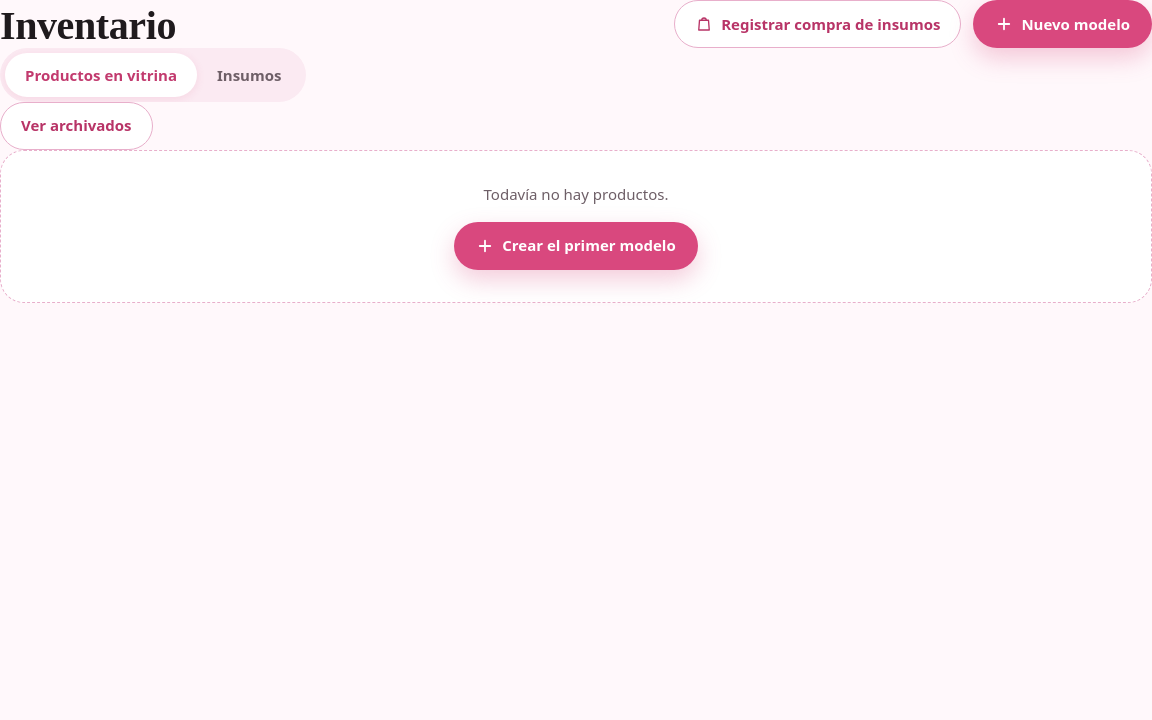
Test: crear modelo envía los datos y abre su ficha
This screenshot has width=1152, height=720.
Click the button "Nuevo modelo".
click(1063, 24)  # box [973,0,1151,48]
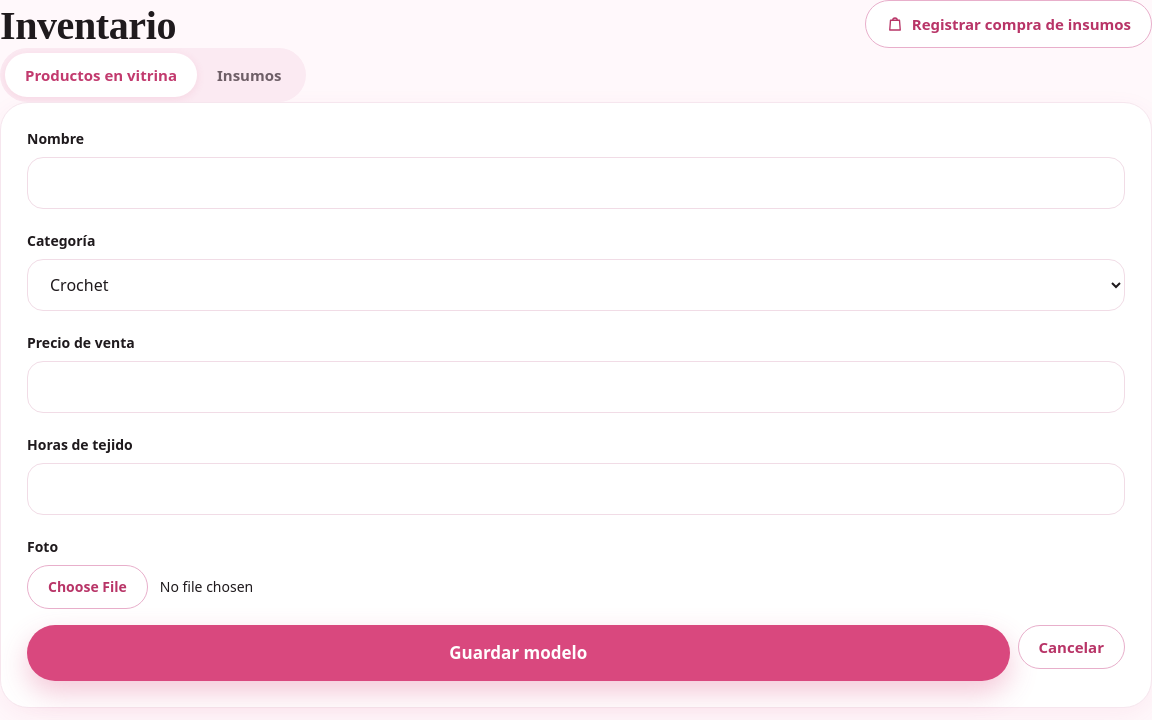
Type "Bolso balde" into the field labelled "Nombre".
click(576, 183); type("Bolso balde")  # box [27,157,1125,209]
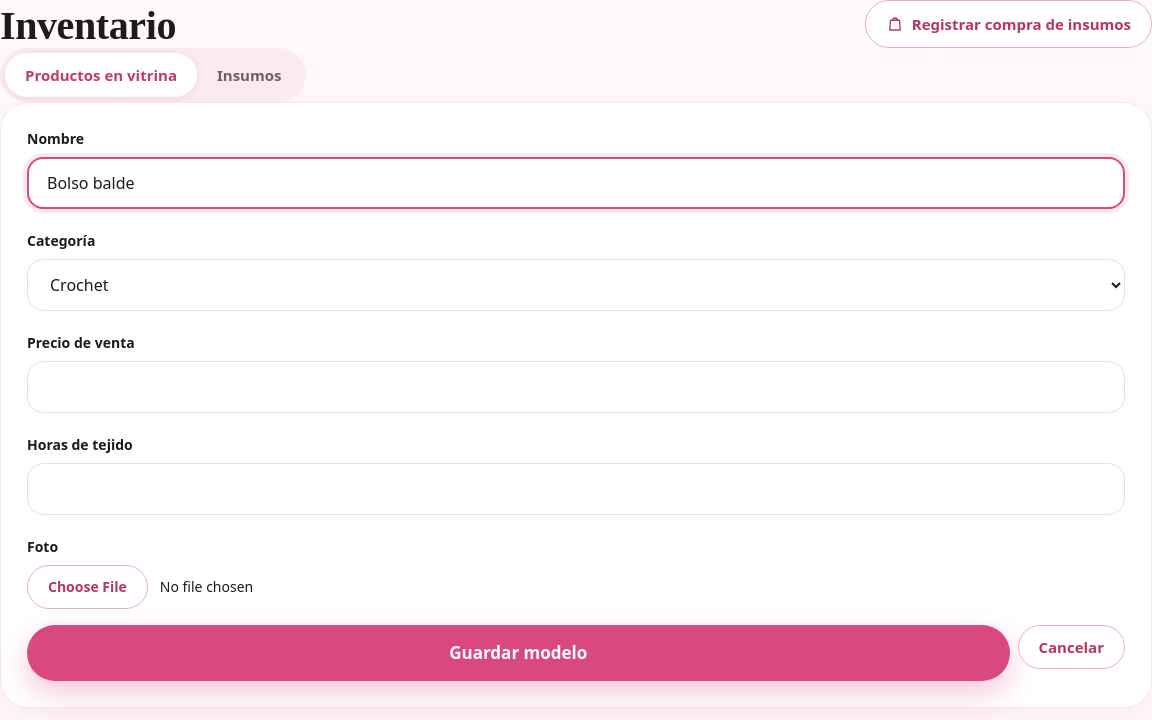
Type "125.000" into the field labelled "Precio de venta".
click(576, 387); type("125.000")  # box [27,361,1125,413]
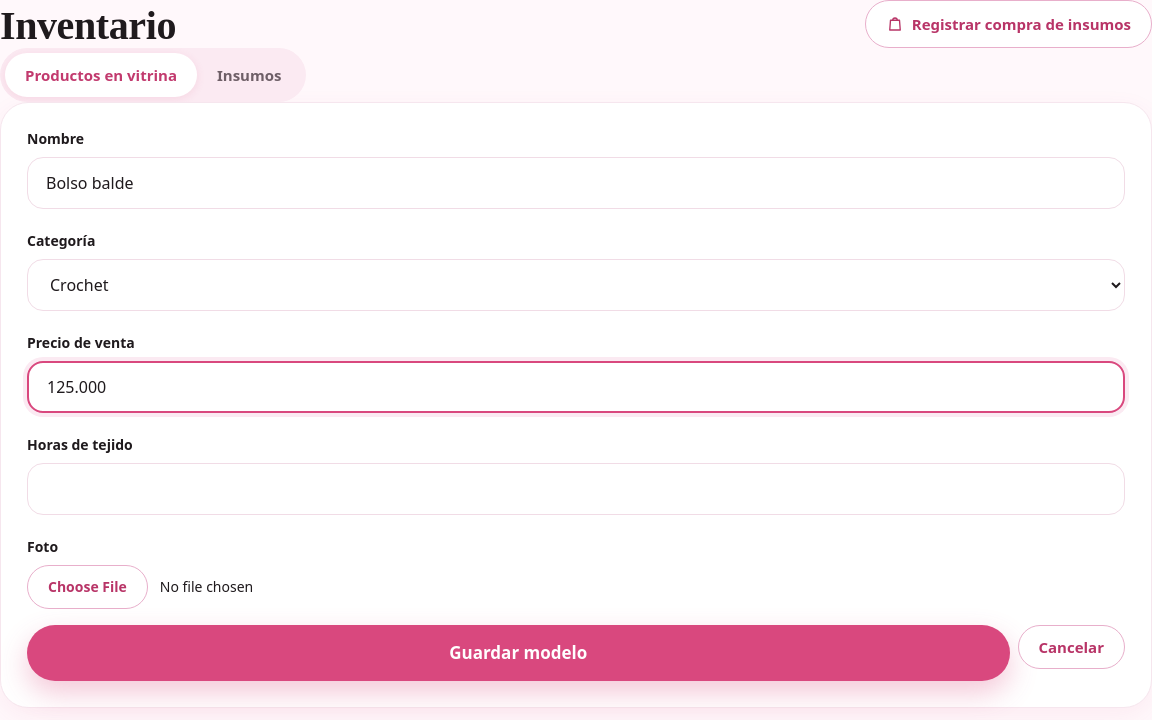
Type "6,5" into the field labelled "Horas de tejido".
click(576, 489); type("6,5")  # box [27,463,1125,515]
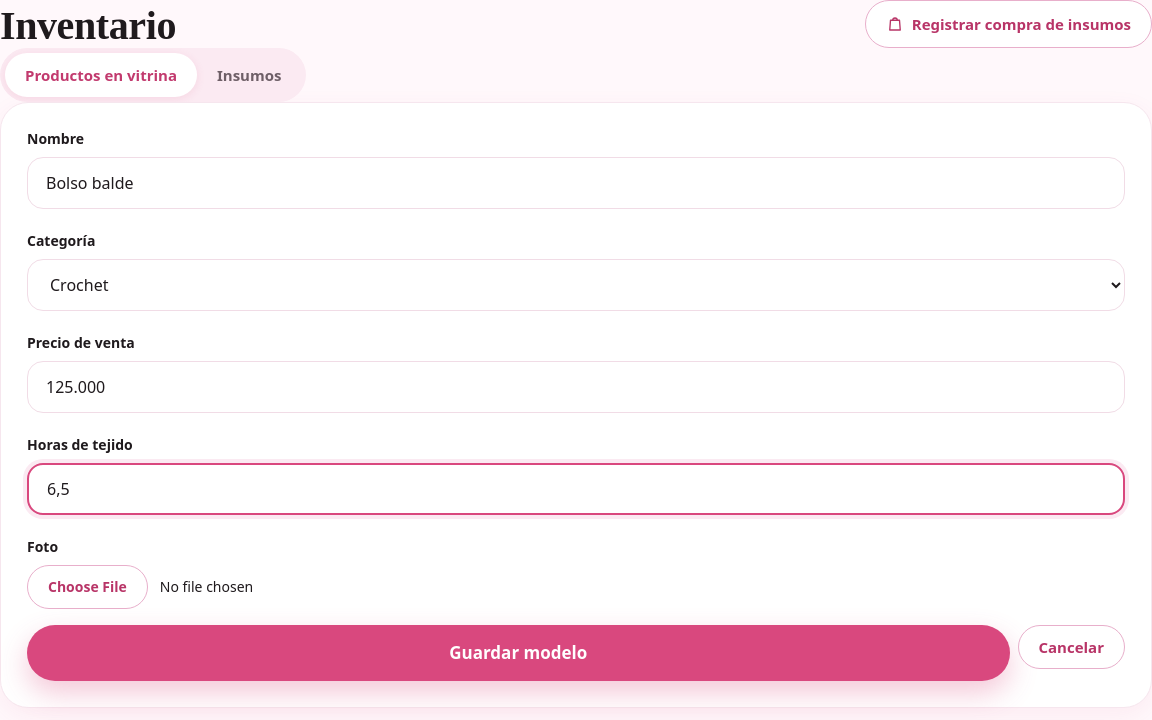
Click the button "Guardar modelo".
click(518, 653)  # box [27,625,1010,681]
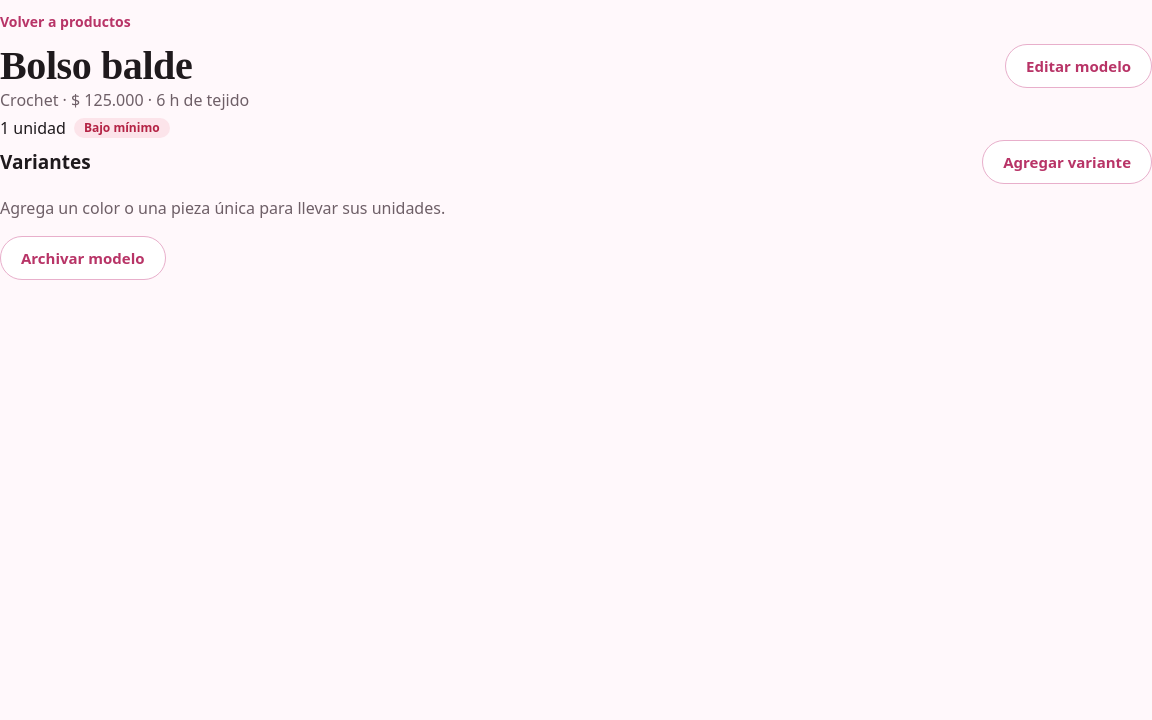
Expected: the heading "Bolso balde" is shown, [0,43,192,88]
